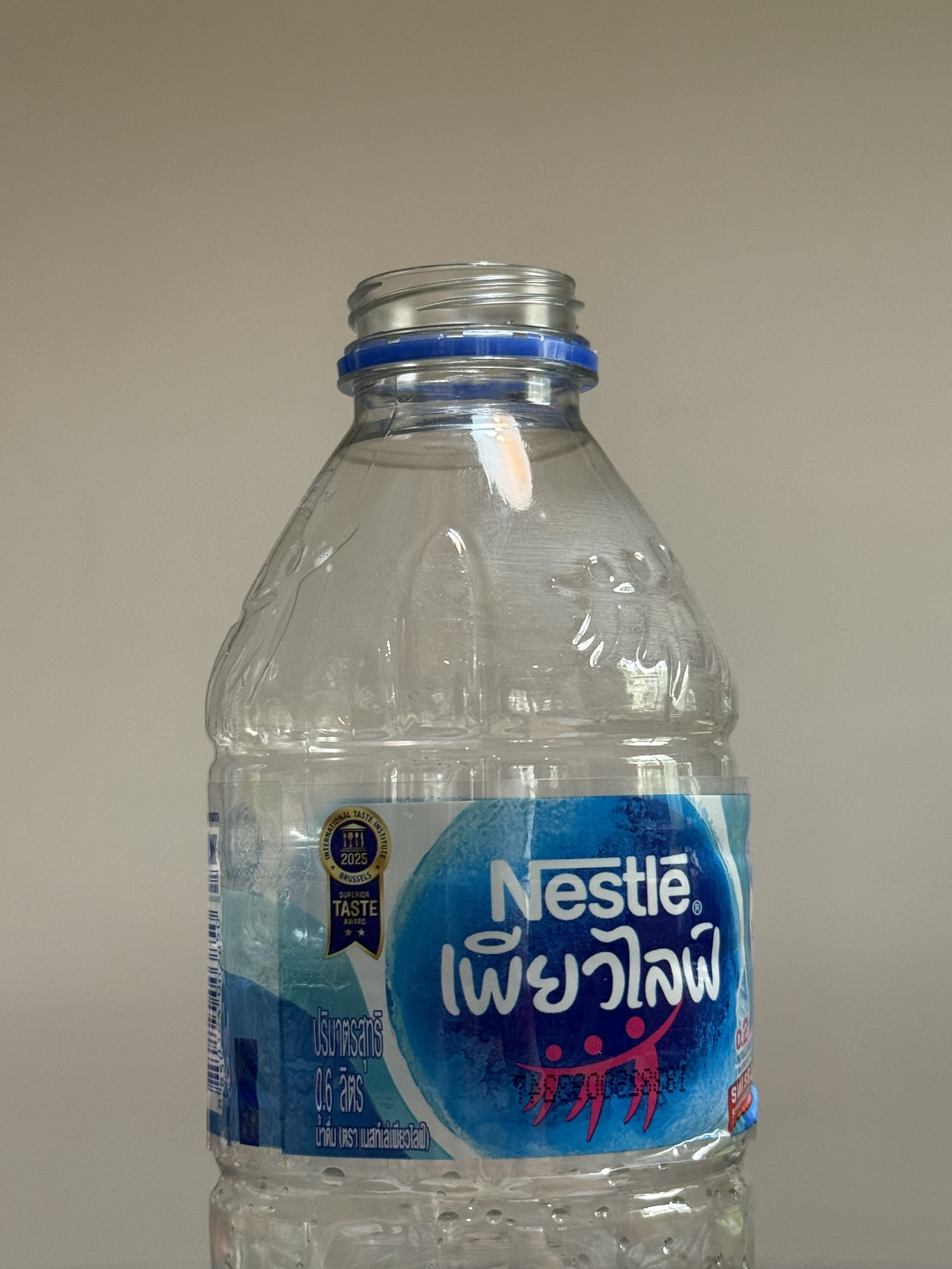no_cap: (334, 256, 603, 379)
